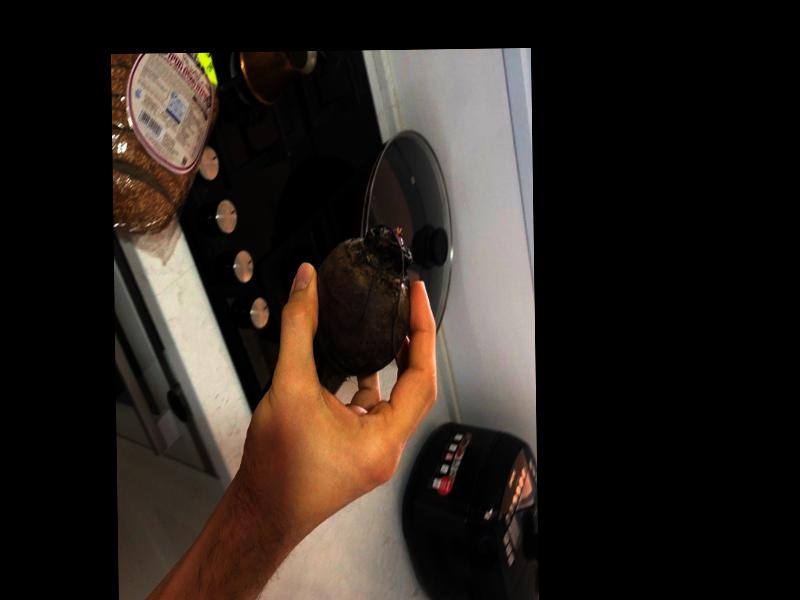Beet: (315, 224, 412, 385)
